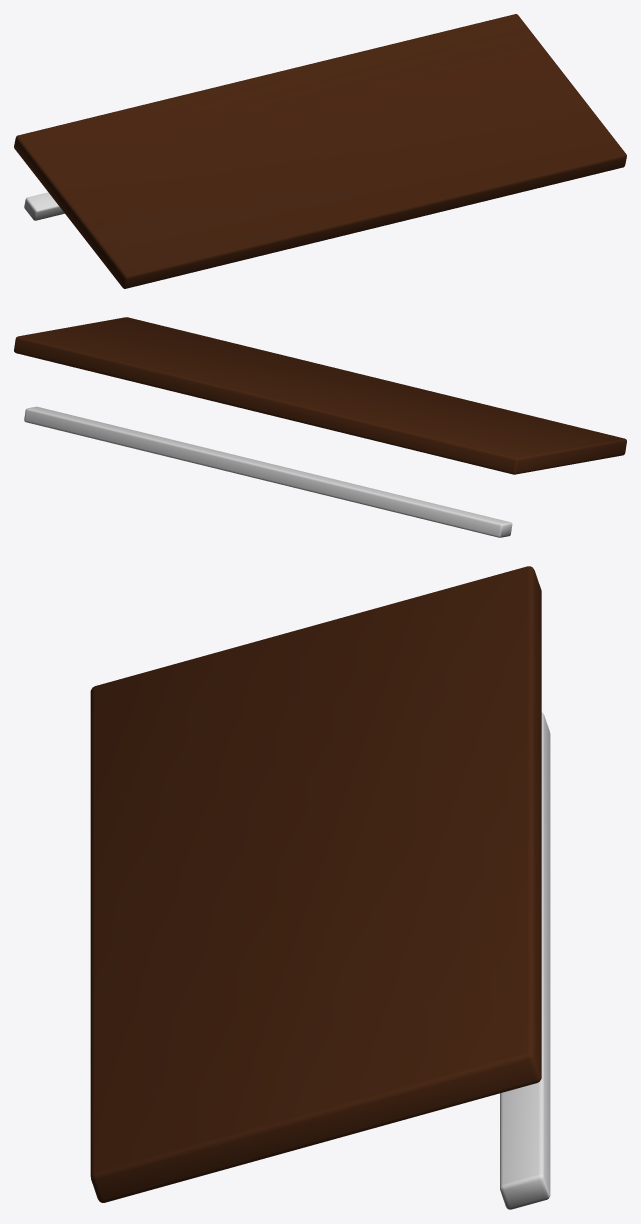
The model's file is wooden-ramp-plank.obj.
3 views of the same model, one above another, from view 1: azimuth 30°, elevation 25°; view 2: azimuth 150°, elevation 25°; view 3: azimuth 270°, elevation 25° (orthographic). The views are drawn at different scales.
Parts seen in each view (by area): view 1: wooden-ramp-plank; view 2: wooden-ramp-plank; view 3: wooden-ramp-plank.
Boxes of the visible parts, x1,y1,x2,y2 form: wooden-ramp-plank: (14,14,626,288); wooden-ramp-plank: (14,317,626,537); wooden-ramp-plank: (90,566,550,1209).
Bounding box in the file's own units: 2 × 0.3213 × 0.7919.
